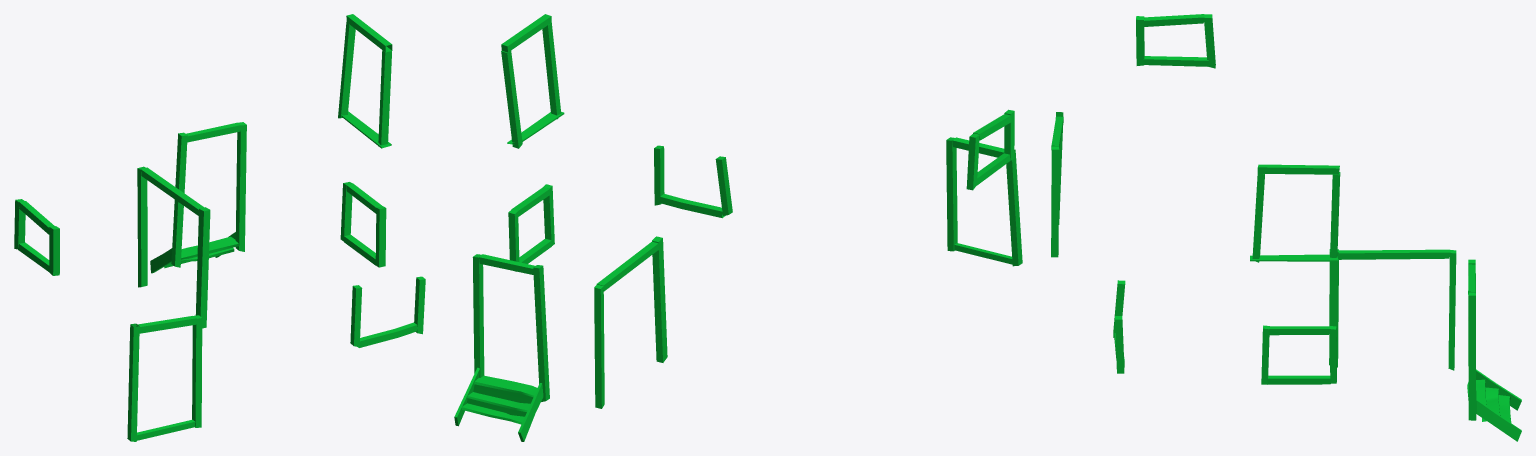
The model's file is SM_SmallLodge_Openings.fbx.
3 views of the same model, side by side, from view 1: azimuth 30°, elevation 25°; view 2: azimuth 150°, elevation 25°; view 3: azimuth 270°, elevation 25° (orthographic). The views are drawn at different scales.
Visible parts, largest first — view 1: Back_Door, Front_Door, Basement_Door, Right_Door, Right_Window, Left_Window, Front_Window; view 2: Back_Door, Basement_Door, Front_Door, Right_Door, Front_Window, Right_Window, Left_Window; view 3: Back_Door, Right_Door, Basement_Door, Left_Window, Right_Window, Front_Door, Front_Window.
Boxes of the visible parts, x1=… form: Back_Door: x1=150, y1=122, x2=246, y2=273; Front_Door: x1=127, y1=315, x2=202, y2=441; Basement_Door: x1=137, y1=166, x2=210, y2=328; Right_Door: x1=338, y1=14, x2=392, y2=148; Right_Window: x1=340, y1=182, x2=386, y2=267; Left_Window: x1=14, y1=199, x2=59, y2=275; Front_Window: x1=350, y1=276, x2=425, y2=347; Back_Door: x1=454, y1=254, x2=549, y2=441; Basement_Door: x1=594, y1=236, x2=667, y2=408; Front_Door: x1=946, y1=137, x2=1022, y2=266; Right_Door: x1=501, y1=14, x2=564, y2=148; Front_Window: x1=654, y1=145, x2=732, y2=218; Right_Window: x1=508, y1=184, x2=554, y2=271; Left_Window: x1=966, y1=109, x2=1014, y2=190; Back_Door: x1=1467, y1=259, x2=1521, y2=441; Right_Door: x1=1250, y1=164, x2=1340, y2=262; Basement_Door: x1=1329, y1=249, x2=1456, y2=370; Left_Window: x1=1136, y1=14, x2=1215, y2=68; Right_Window: x1=1261, y1=325, x2=1336, y2=384; Front_Door: x1=1051, y1=112, x2=1063, y2=257; Front_Window: x1=1113, y1=280, x2=1125, y2=373.
Size of the model in its own units: 1010 by 1032 by 714.
